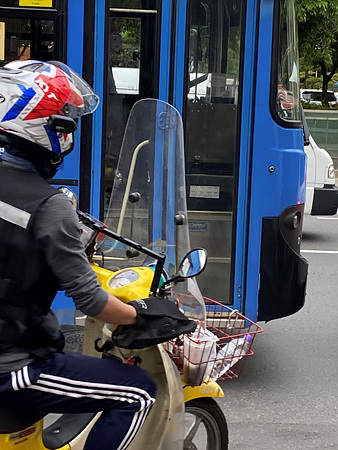entrance: (99, 9, 242, 309)
